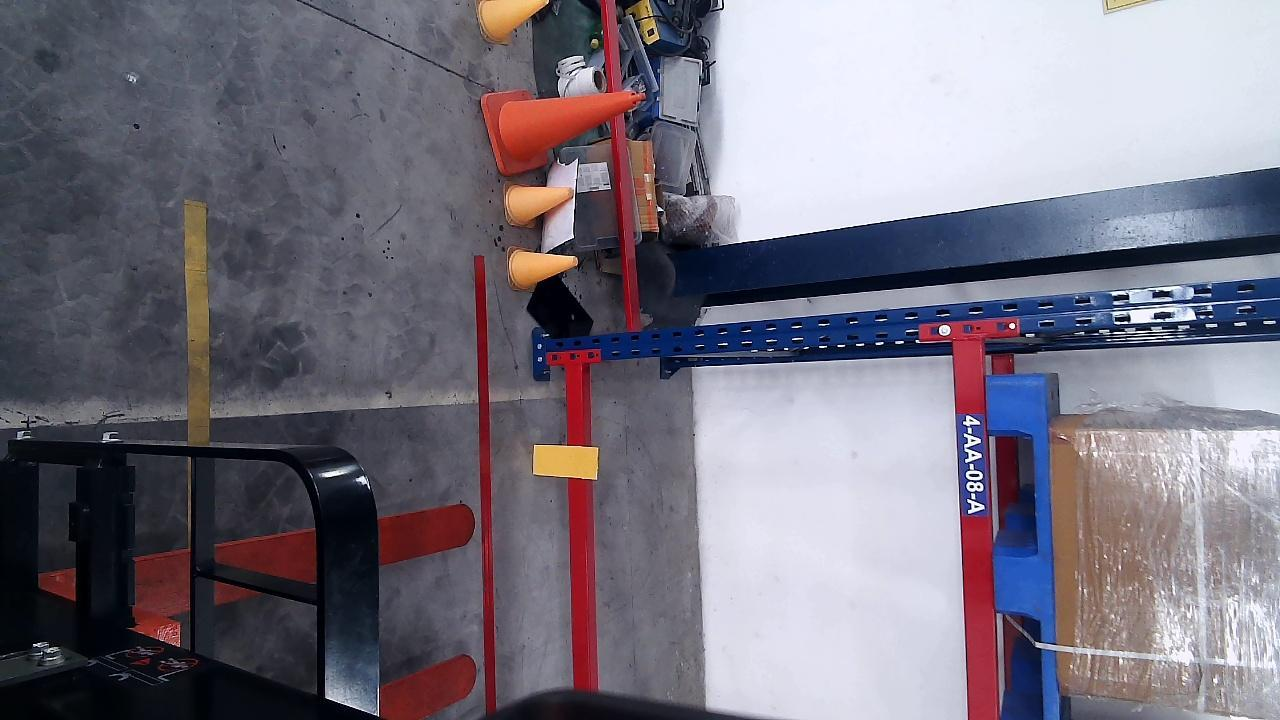h_rack: (953, 342, 997, 719), (565, 363, 597, 689)
orange_strip: (534, 444, 599, 480)
red_line: (475, 255, 499, 713)
small_pallet: (987, 377, 1062, 720)
yellow_line: (185, 199, 210, 440)
